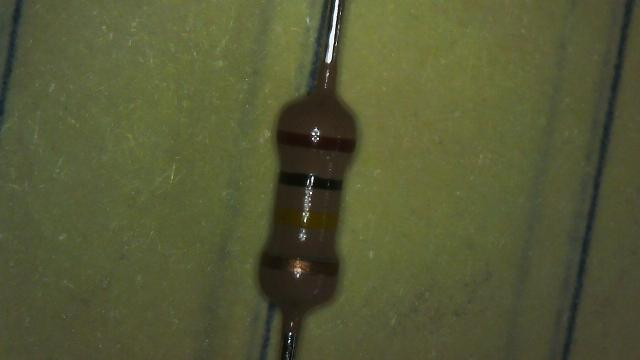black: (279, 172, 342, 190)
brown: (276, 132, 356, 153)
gold: (262, 255, 338, 276)
resistor: (226, 83, 382, 343)
yellow: (274, 206, 338, 231)
